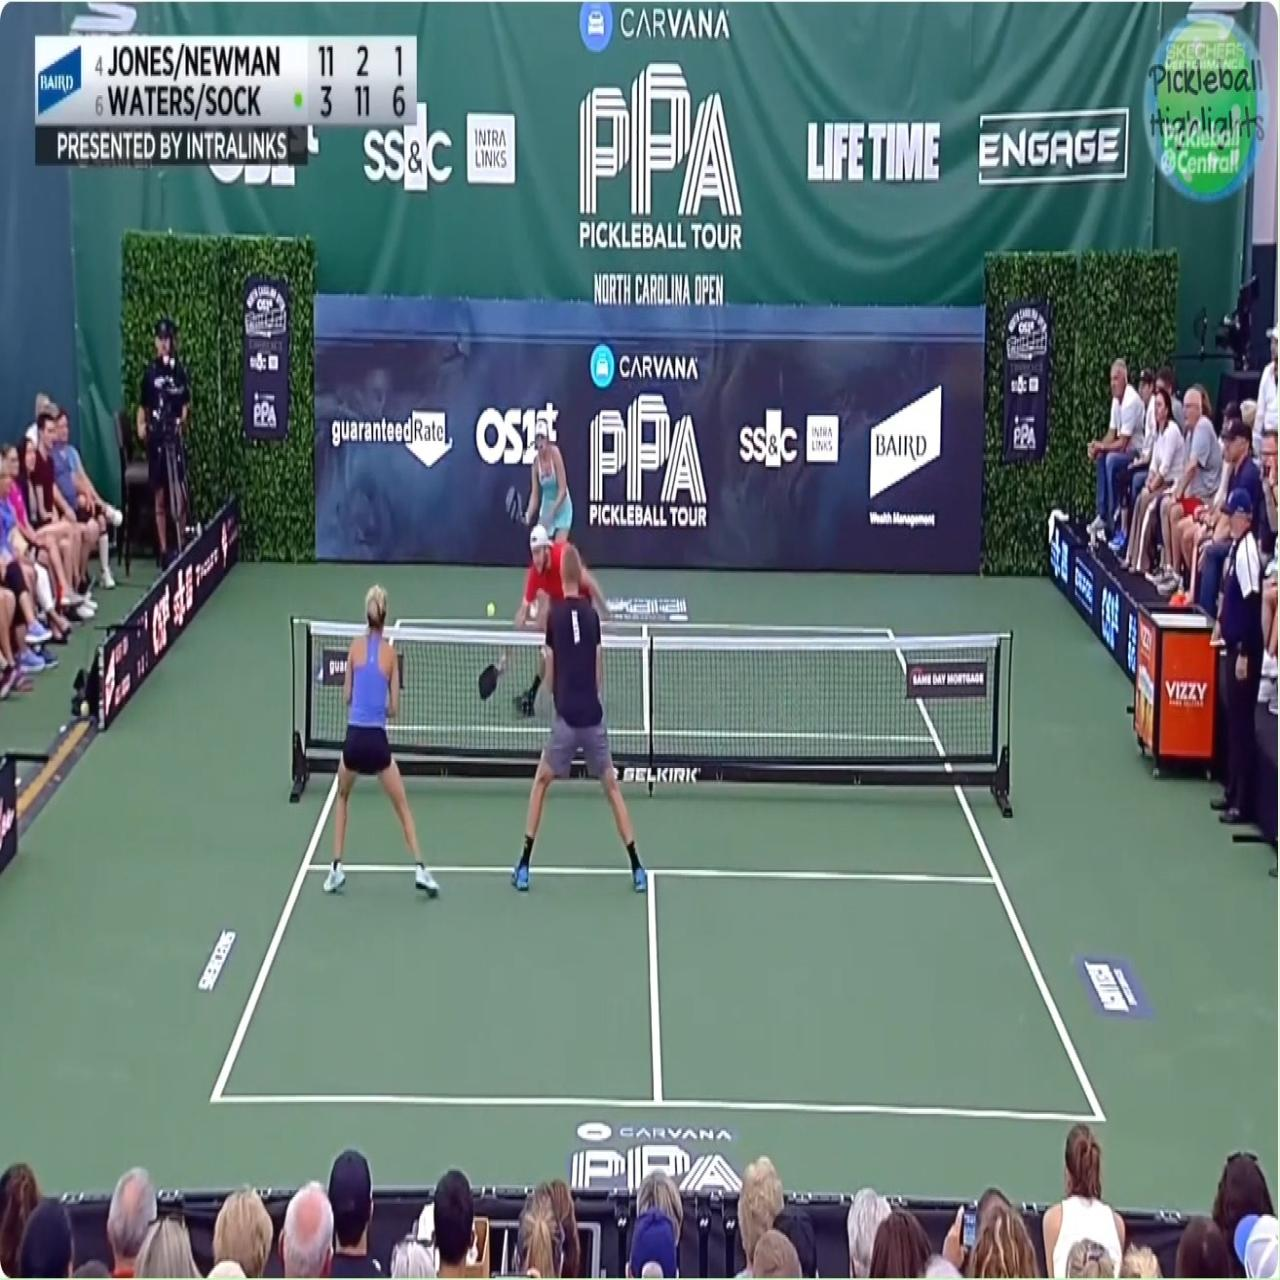pickleball: (486, 600, 495, 615)
